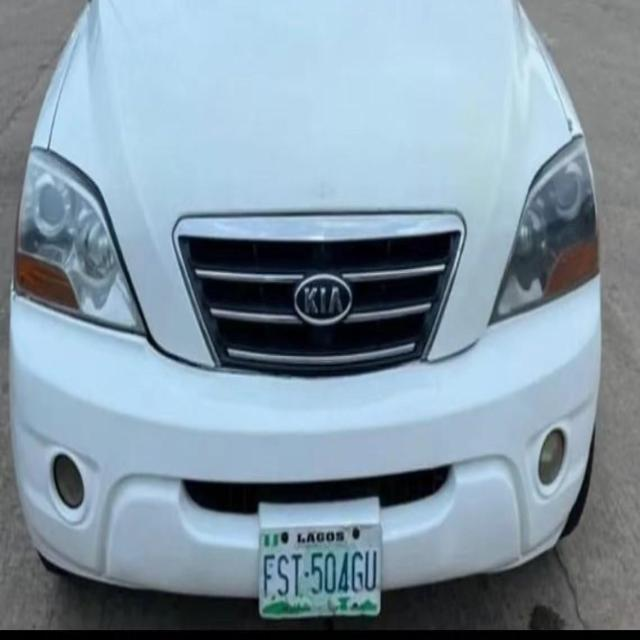Nigerian License Plate - vdataset benjamin-daria: (259, 525, 383, 622)
